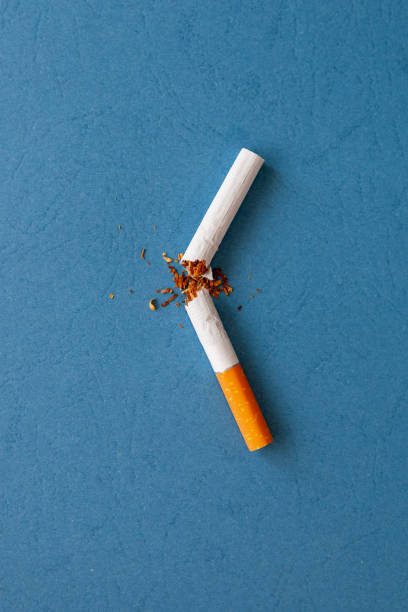cigarette: (184, 283, 275, 454), (178, 146, 267, 277)
